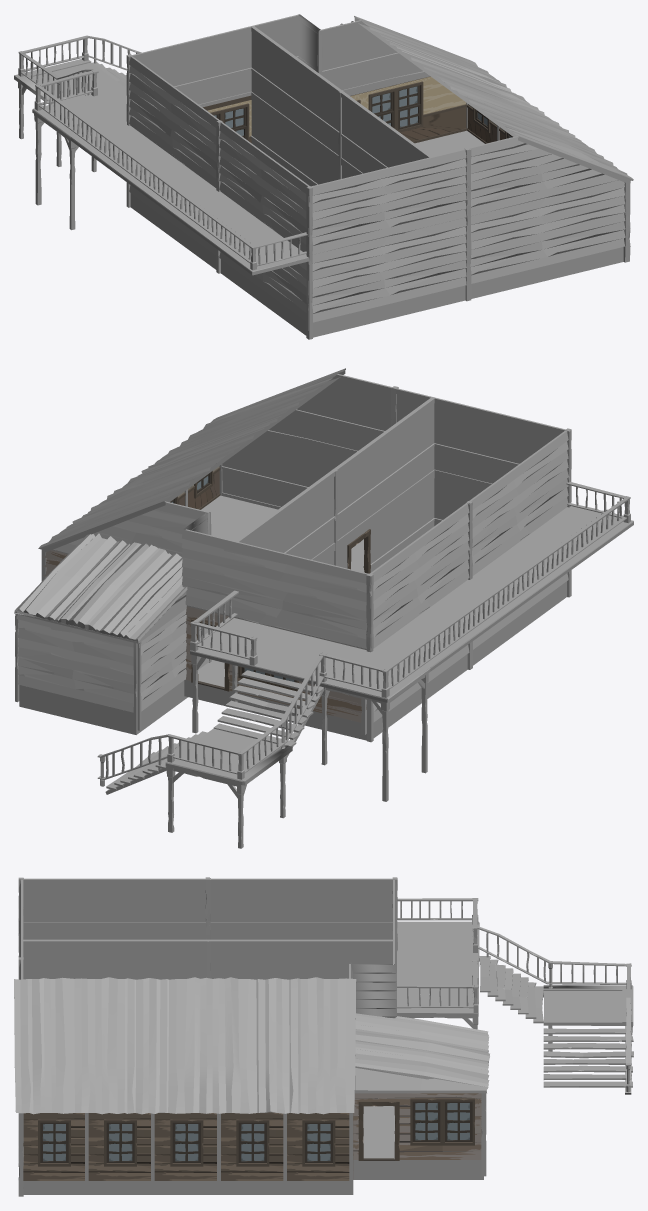
File: MainWarehouseBuilding.fbx
3 views of the same model, one above another, from view 1: azimuth 30°, elevation 25°; view 2: azimuth 150°, elevation 25°; view 3: azimuth 270°, elevation 25° (orthographic). The views are drawn at different scales.
Parts seen in each view (by area): view 1: pasted__Bld_Stairs_31; view 2: pasted__Bld_Stairs_31; view 3: pasted__Bld_Stairs_31.
Boxes of the visible parts, x1,y1,x2,y2 form: pasted__Bld_Stairs_31: (14, 14, 633, 339); pasted__Bld_Stairs_31: (14, 368, 633, 848); pasted__Bld_Stairs_31: (14, 877, 633, 1196).
Size of the model in its own units: 1772 by 758 by 2398.
